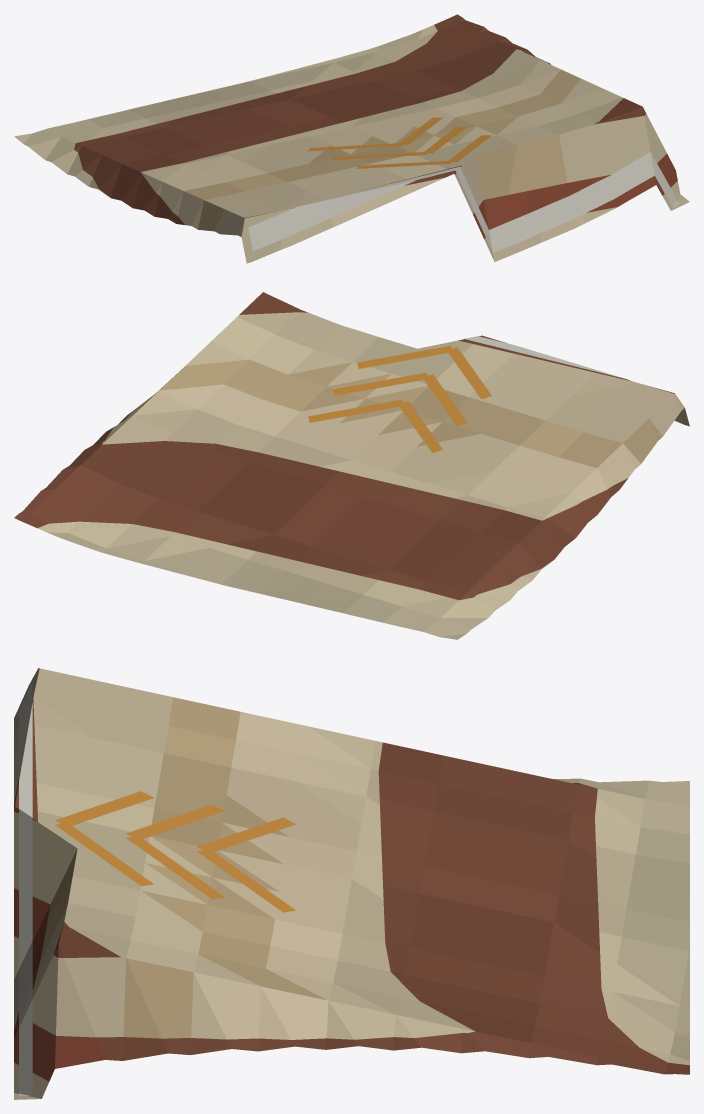
Rendered from dam_corkscrew_step.glb.
The picture shows the model from 3 angles, top to bottom: view 1: azimuth 30°, elevation 25°; view 2: azimuth 150°, elevation 25°; view 3: azimuth 270°, elevation 25°; orthographic projection. The views are drawn at different scales.
Visible parts, largest first — view 1: dam_corkscrew_step; view 2: dam_corkscrew_step; view 3: dam_corkscrew_step.
Boxes of the visible parts, x1,y1,x2,y2 form: dam_corkscrew_step: (14,14,689,263); dam_corkscrew_step: (14,292,689,639); dam_corkscrew_step: (14,668,689,1099).
Bounding box in the file's own units: 22 × 4.96 × 20.
